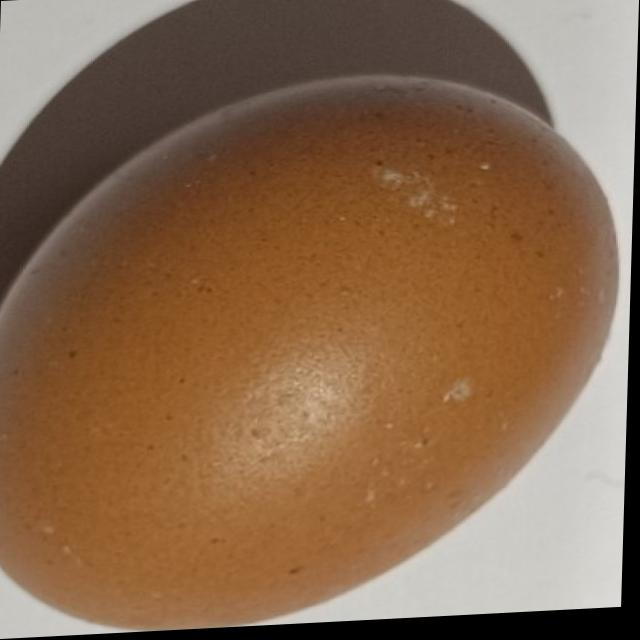unfresh: (0, 66, 621, 640)
